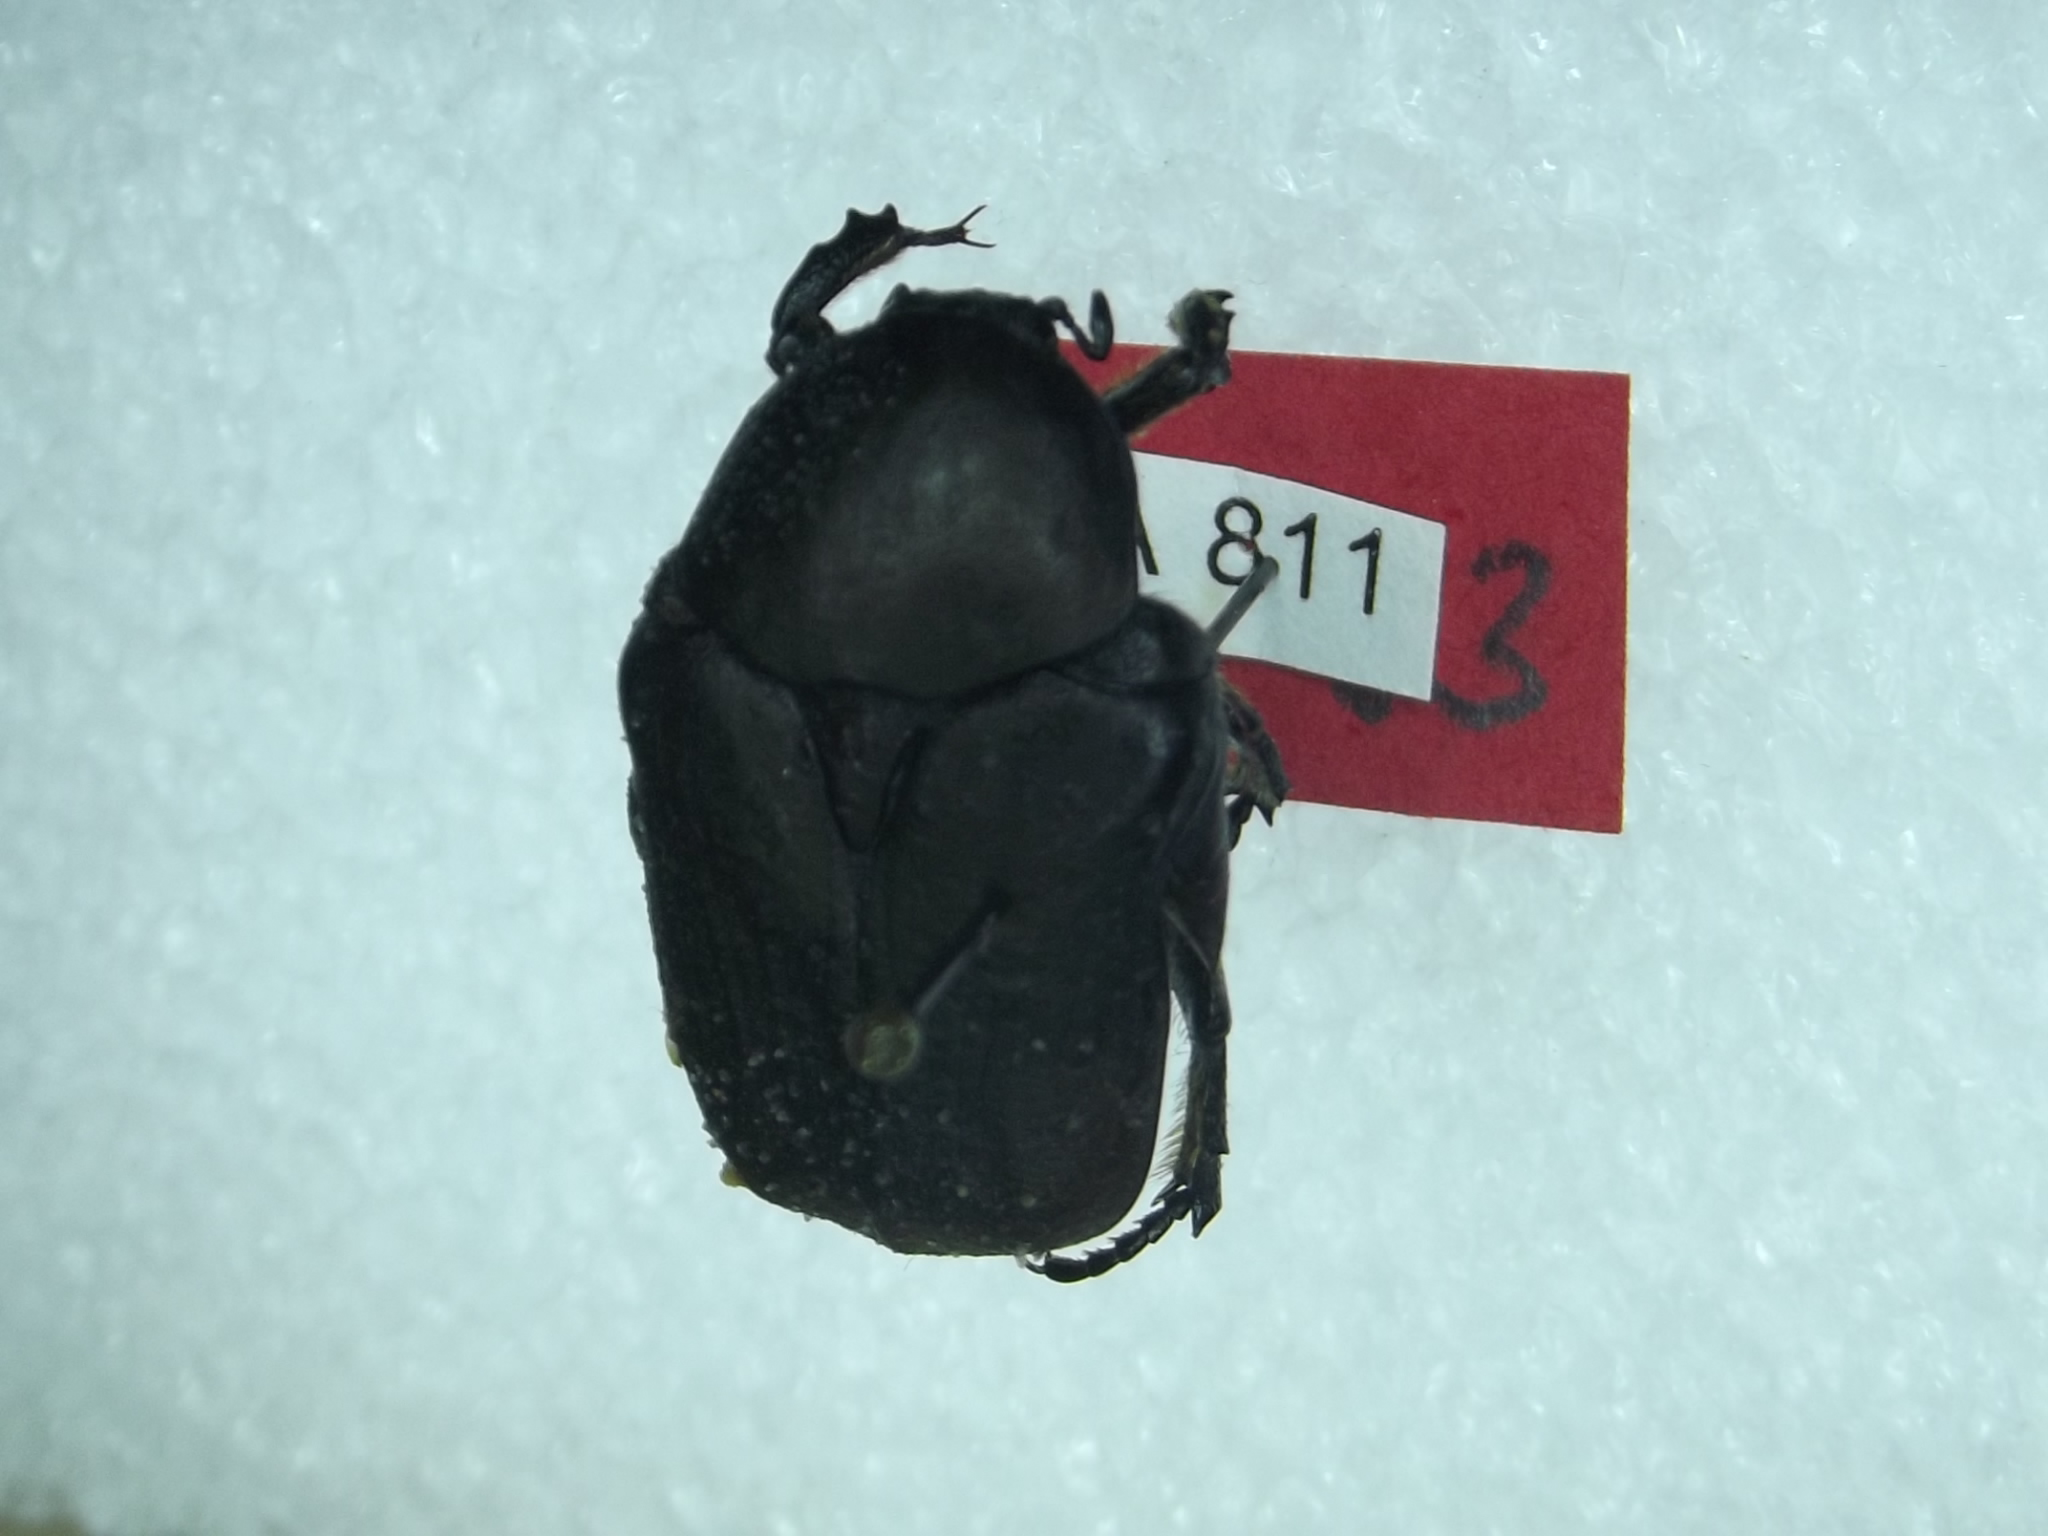Protaetia_oblonga: (622, 165, 1429, 1321)
